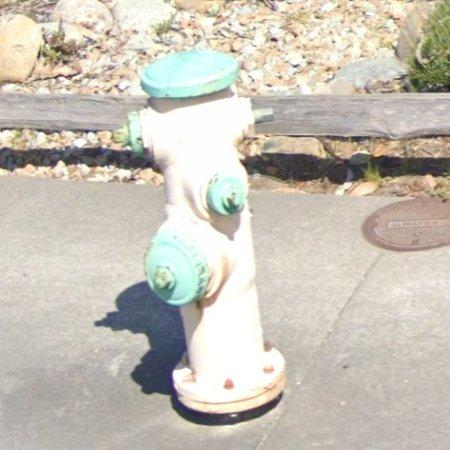a fire hydrant: (129, 50, 286, 415)
